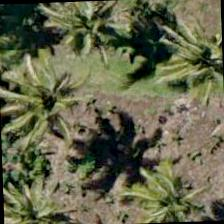Kelapa_Sawit: (7, 56, 100, 150), (46, 0, 139, 74), (159, 18, 223, 111), (129, 166, 221, 224)
